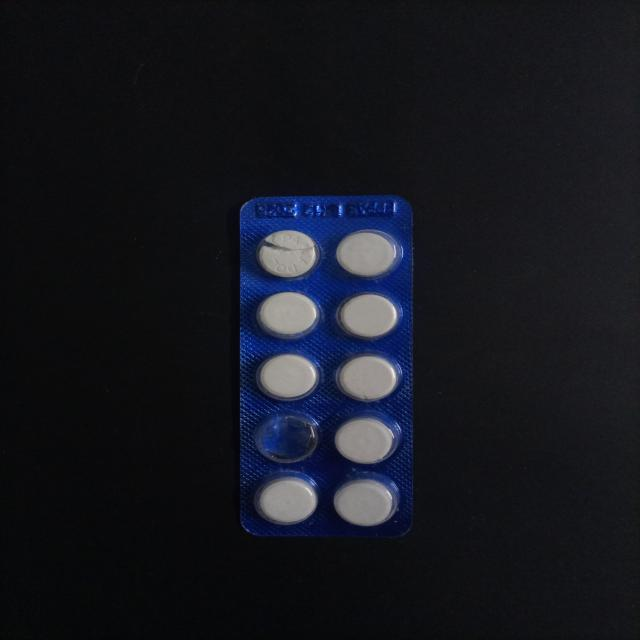defect: (250, 408, 320, 466), (255, 228, 322, 282)
